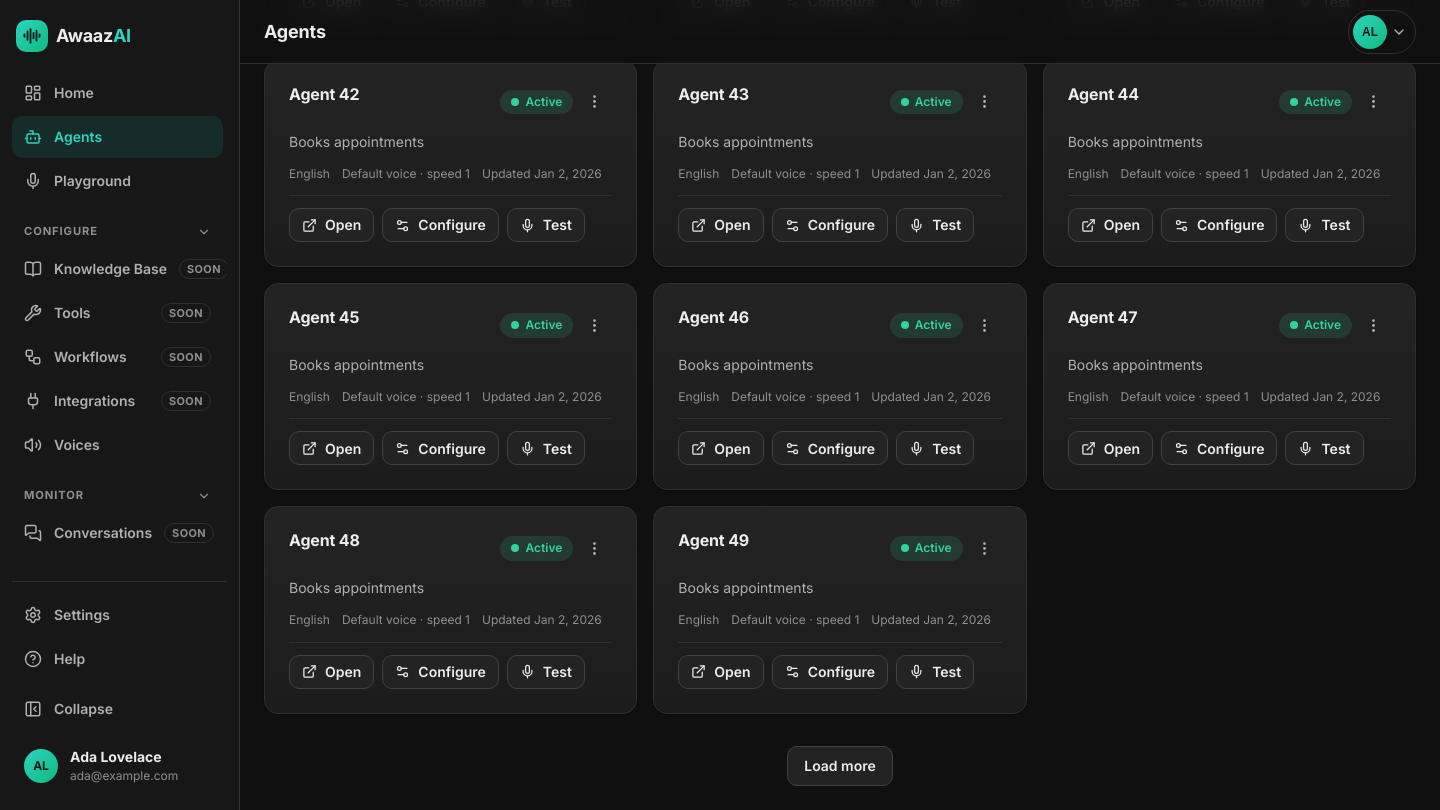
it: agents list › loads the next page when the first one is full
(page scrolled)
Click the button "Load more".
click(840, 766)  # box [787,746,893,786]
(page scrolled)
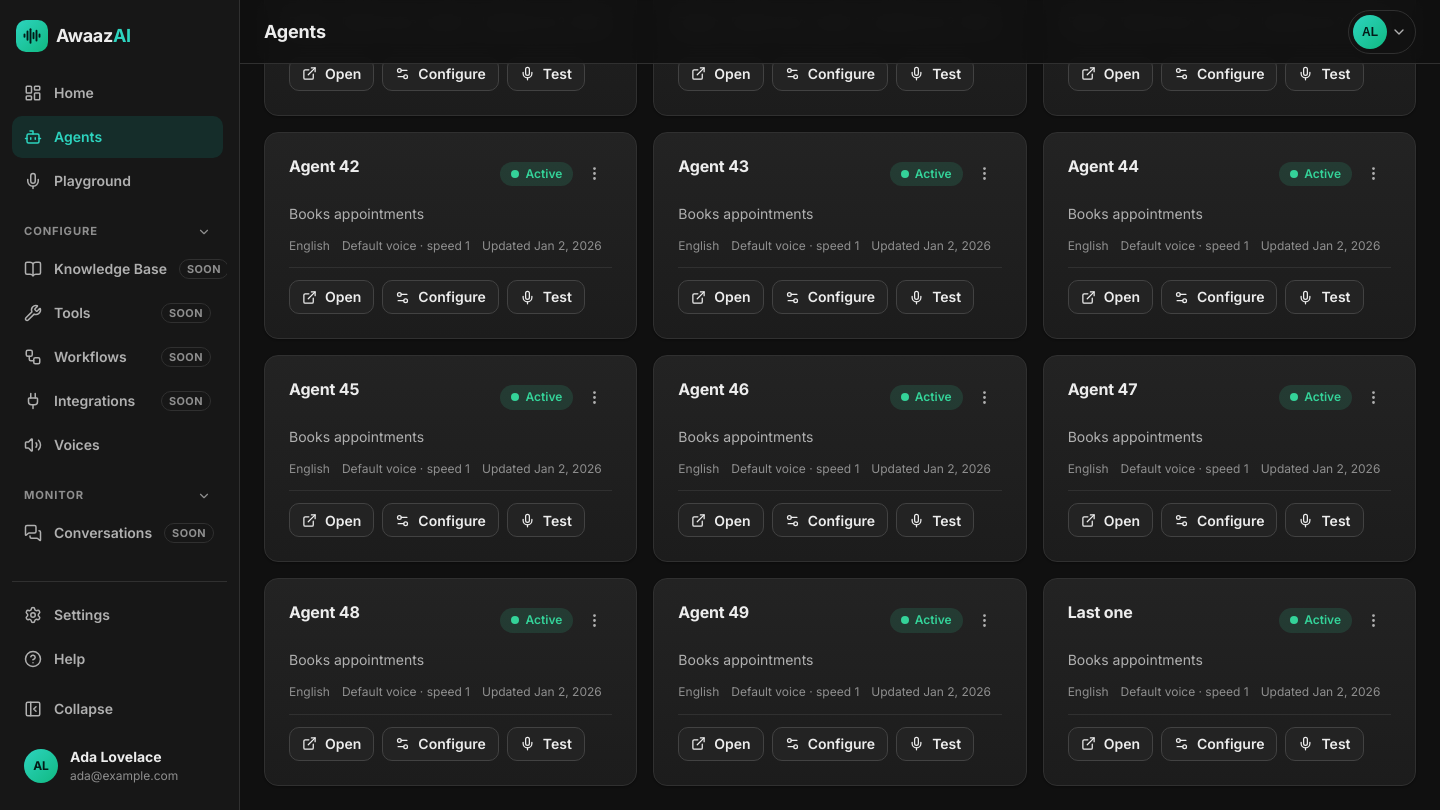
Check: the link "Last one" is shown, box [1068,602,1133,622]
Check: the button "Load more" is gone
